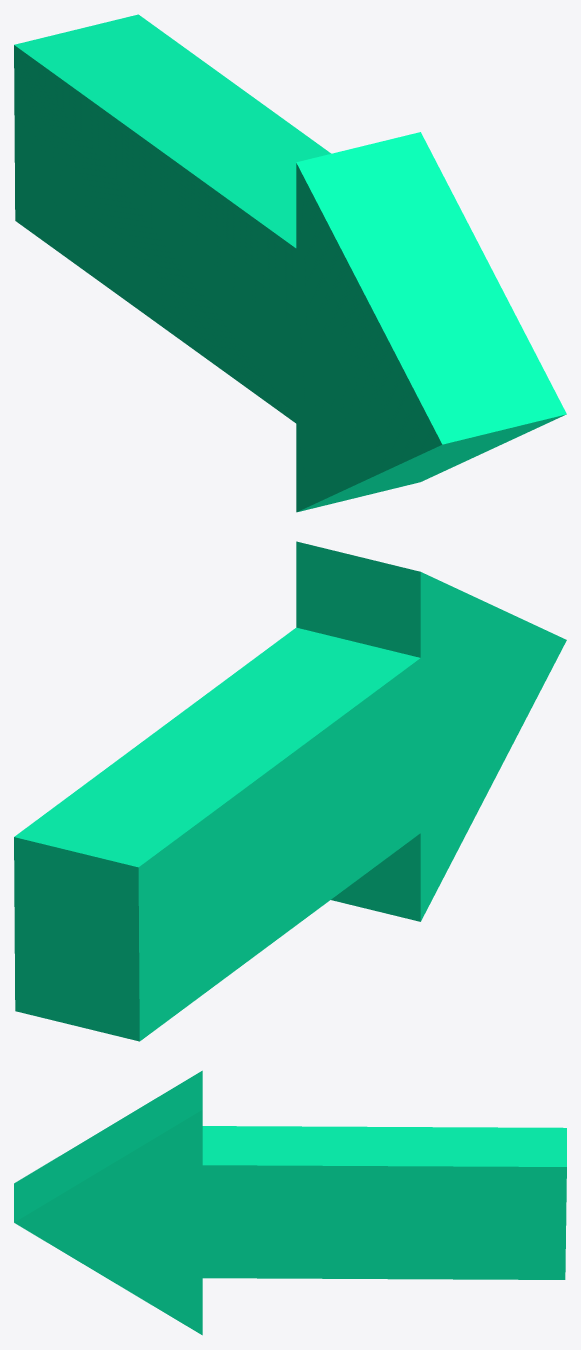
File: arrow.glb
3 renders of one model, top to bottom at view 1: azimuth 30°, elevation 25°; view 2: azimuth 150°, elevation 25°; view 3: azimuth 270°, elevation 25°, orthographic. The views are drawn at different scales.
Parts seen in each view (by area): view 1: Arrow; view 2: Arrow; view 3: Arrow.
Part boxes in pixels (x1=…): Arrow: x1=14, y1=14, x2=566, y2=512; Arrow: x1=14, y1=541, x2=566, y2=1041; Arrow: x1=14, y1=1070, x2=566, y2=1335.
Size of the model in its own units: 1.23 by 3.3 by 7.33.
